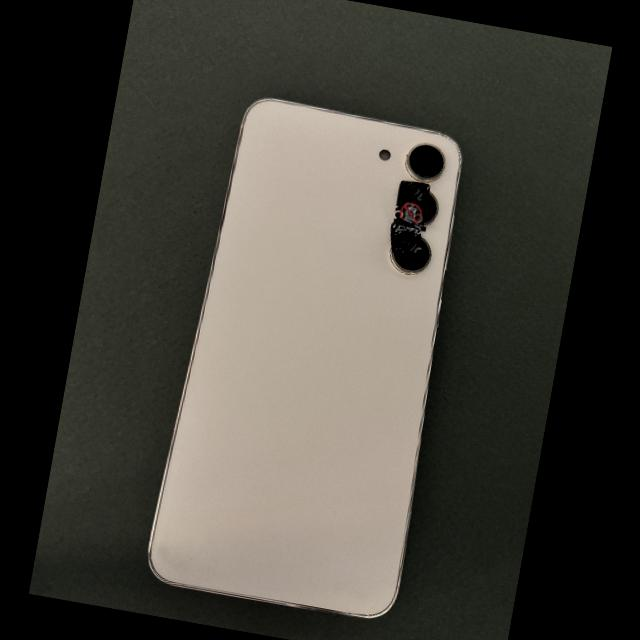lens: (405, 143, 445, 182), (389, 237, 429, 273), (422, 191, 437, 225)
phone: (149, 99, 460, 617)
sticker: (391, 180, 430, 253)
